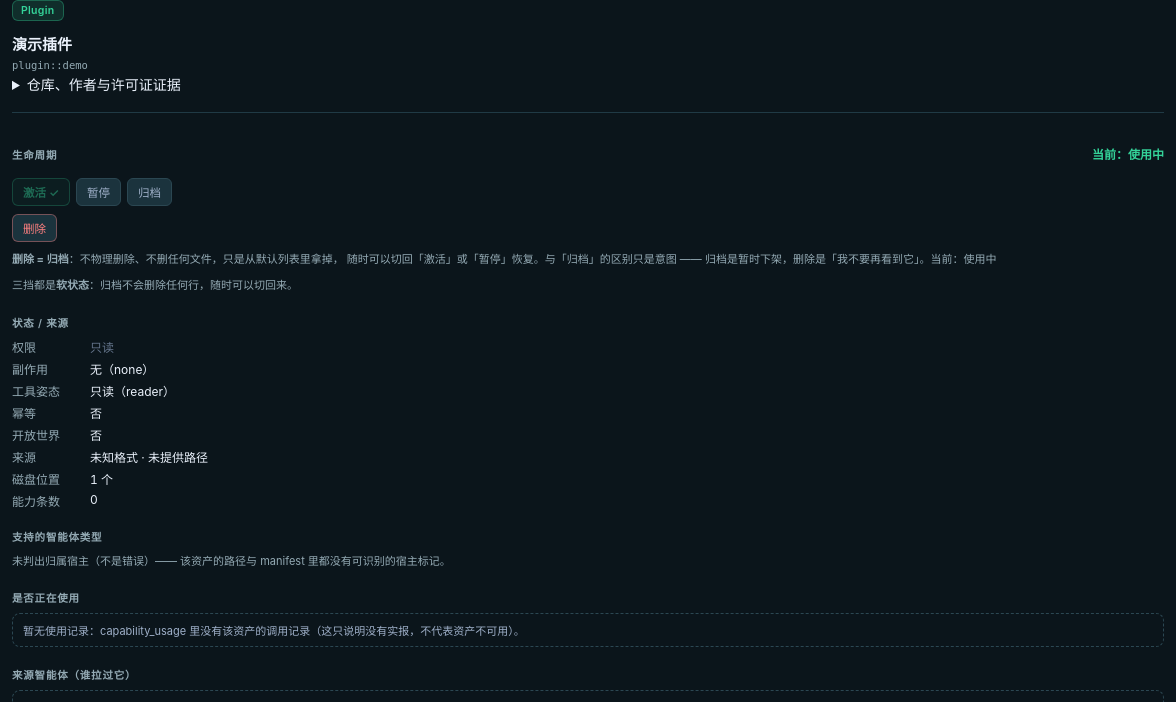
Test: DetailPane · 支持的智能体 / 是否使用 / 三态切换 › 三个生命周期按钮：当前态高亮，点另一个会真的调后端
Expected: the button with class "delete" reads "删除", [12,214,57,242]
Expected: the button with class "life-btn" showing "激活 ✓" is disabled, [12,178,70,206]
Click the button with class "life-btn" showing "暂停": [99, 192] box [76,178,121,206]
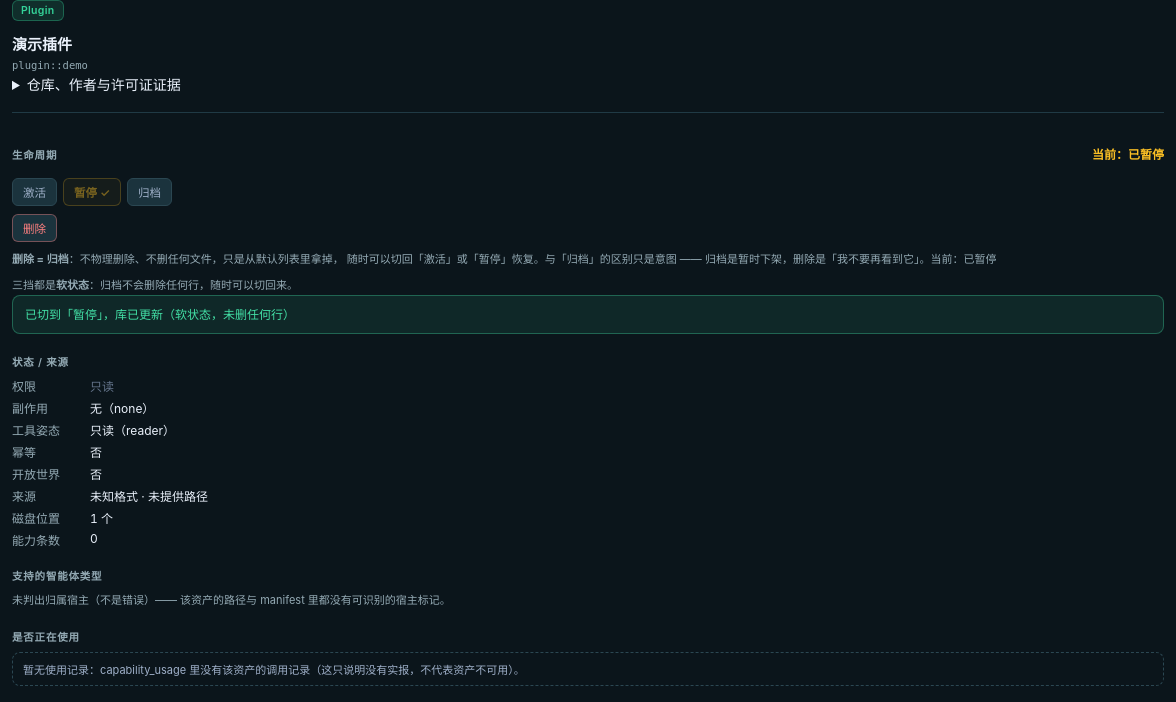
Expected: the text "已切到「暂停」，库已更新（软状态，未删任何行）" is shown, [12,295,1164,334]
